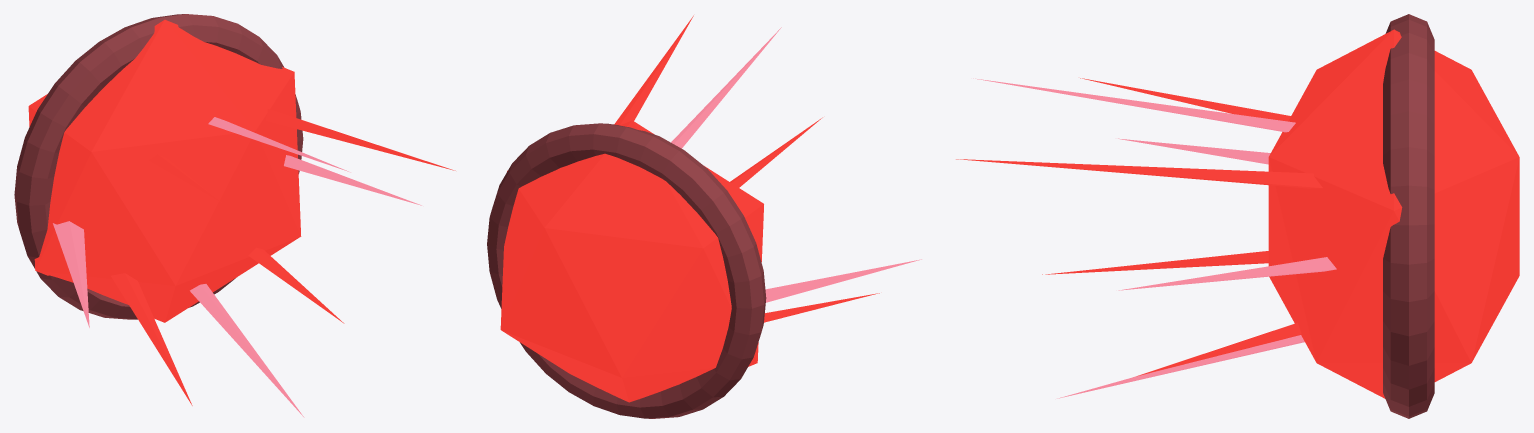
File: laser_emitter.glb
3 views of the same model, side by side, from view 1: azimuth 30°, elevation 25°; view 2: azimuth 150°, elevation 25°; view 3: azimuth 270°, elevation 25° (orthographic). The views are drawn at different scales.
Visible parts, largest first — view 1: laser_emitter; view 2: laser_emitter; view 3: laser_emitter.
Boxes of the visible parts, box(x1,y1,x2,y2) form: laser_emitter: box(14, 14, 455, 417); laser_emitter: box(487, 15, 921, 418); laser_emitter: box(956, 14, 1519, 418).
Size of the model in its own units: 0.6481 by 0.56 by 0.7693.
